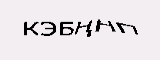А: (63, 12, 83, 37)
З: (93, 17, 104, 42)
М: (101, 17, 119, 40)
Р: (82, 15, 94, 37)
Т: (44, 7, 66, 37)
